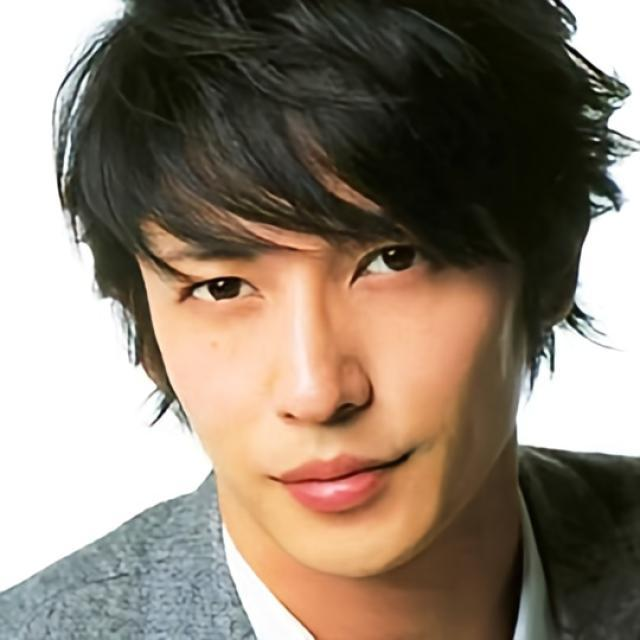content: (138, 98, 514, 578)
